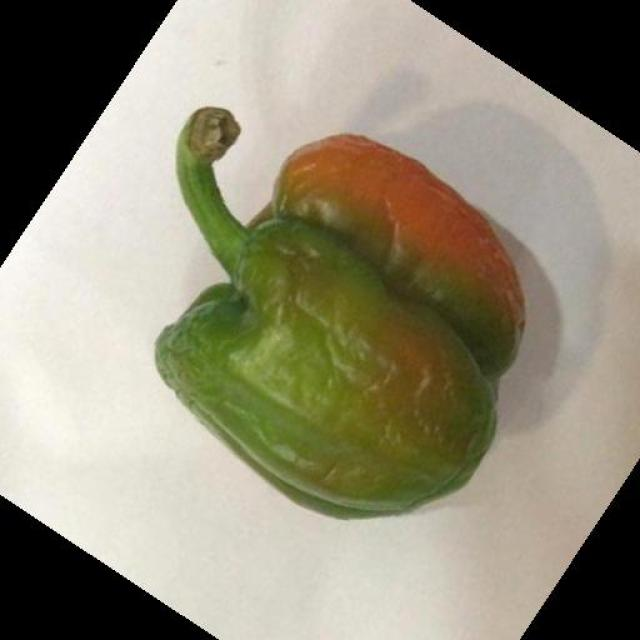Stale_Capsicum: (136, 125, 547, 534)
